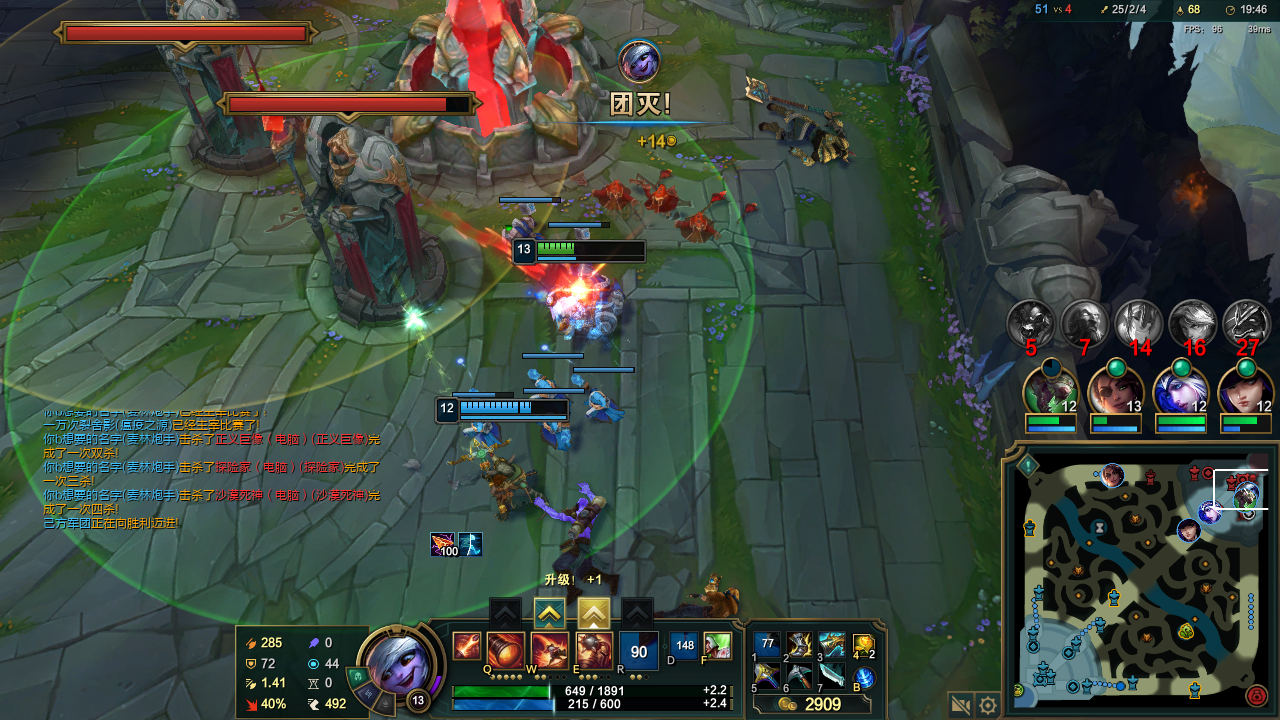DFDSJ: (415, 26, 587, 166)
DFFYT: (266, 107, 445, 320), (142, 18, 296, 193)
Tuijianshengji: (577, 605, 618, 631)
WFXB: (570, 375, 632, 429), (537, 412, 582, 455), (500, 204, 543, 248), (456, 417, 511, 446), (524, 365, 569, 396)
